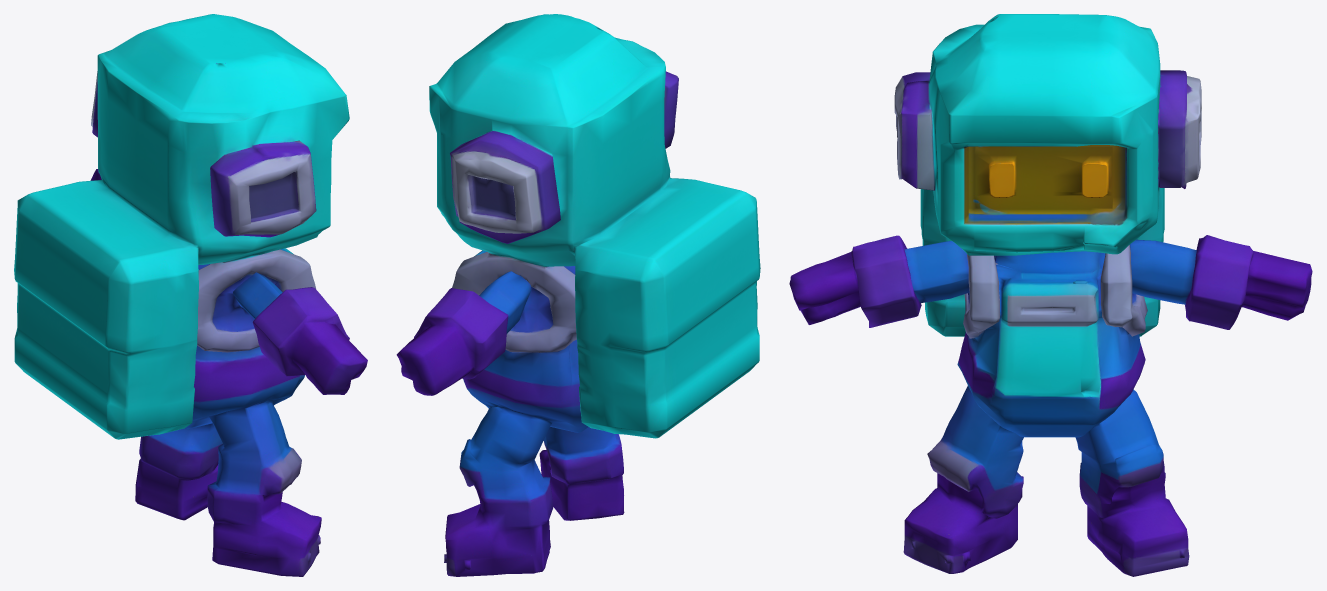
The model's file is explorer.glb.
3 views of the same model, side by side, from view 1: azimuth 30°, elevation 25°; view 2: azimuth 150°, elevation 25°; view 3: azimuth 270°, elevation 25° (orthographic). The views are drawn at different scales.
Visible parts, largest first — view 1: tripo_node_dd422276-0908-42b3-9fe3-ccdbc8c1185e; view 2: tripo_node_dd422276-0908-42b3-9fe3-ccdbc8c1185e; view 3: tripo_node_dd422276-0908-42b3-9fe3-ccdbc8c1185e.
Part boxes in pixels (x1,y1,x2,y2): tripo_node_dd422276-0908-42b3-9fe3-ccdbc8c1185e: [14, 14, 367, 576]; tripo_node_dd422276-0908-42b3-9fe3-ccdbc8c1185e: [396, 14, 760, 576]; tripo_node_dd422276-0908-42b3-9fe3-ccdbc8c1185e: [789, 14, 1312, 576].
Bounding box in the file's own units: 0.5245 × 1 × 0.9139.
1 material, 1 textured.
